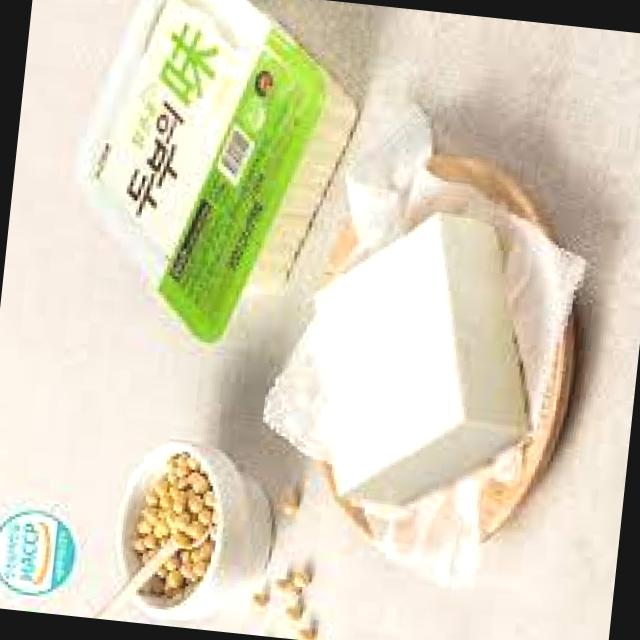tofu: (301, 192, 556, 536)
